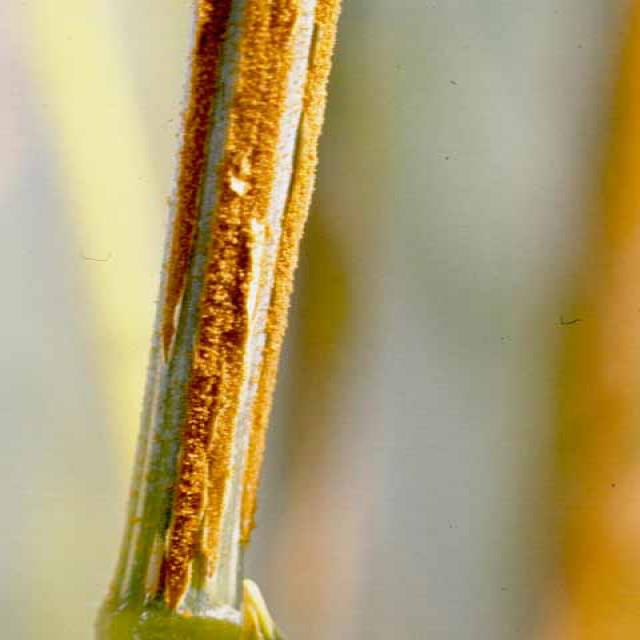wheat-stemrust: (149, 0, 301, 607), (238, 0, 346, 538), (150, 0, 231, 367)
